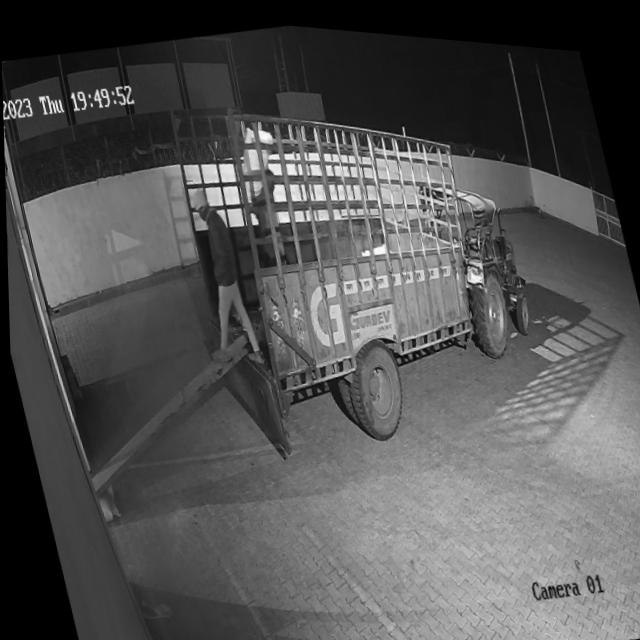sack: (229, 116, 288, 203)
